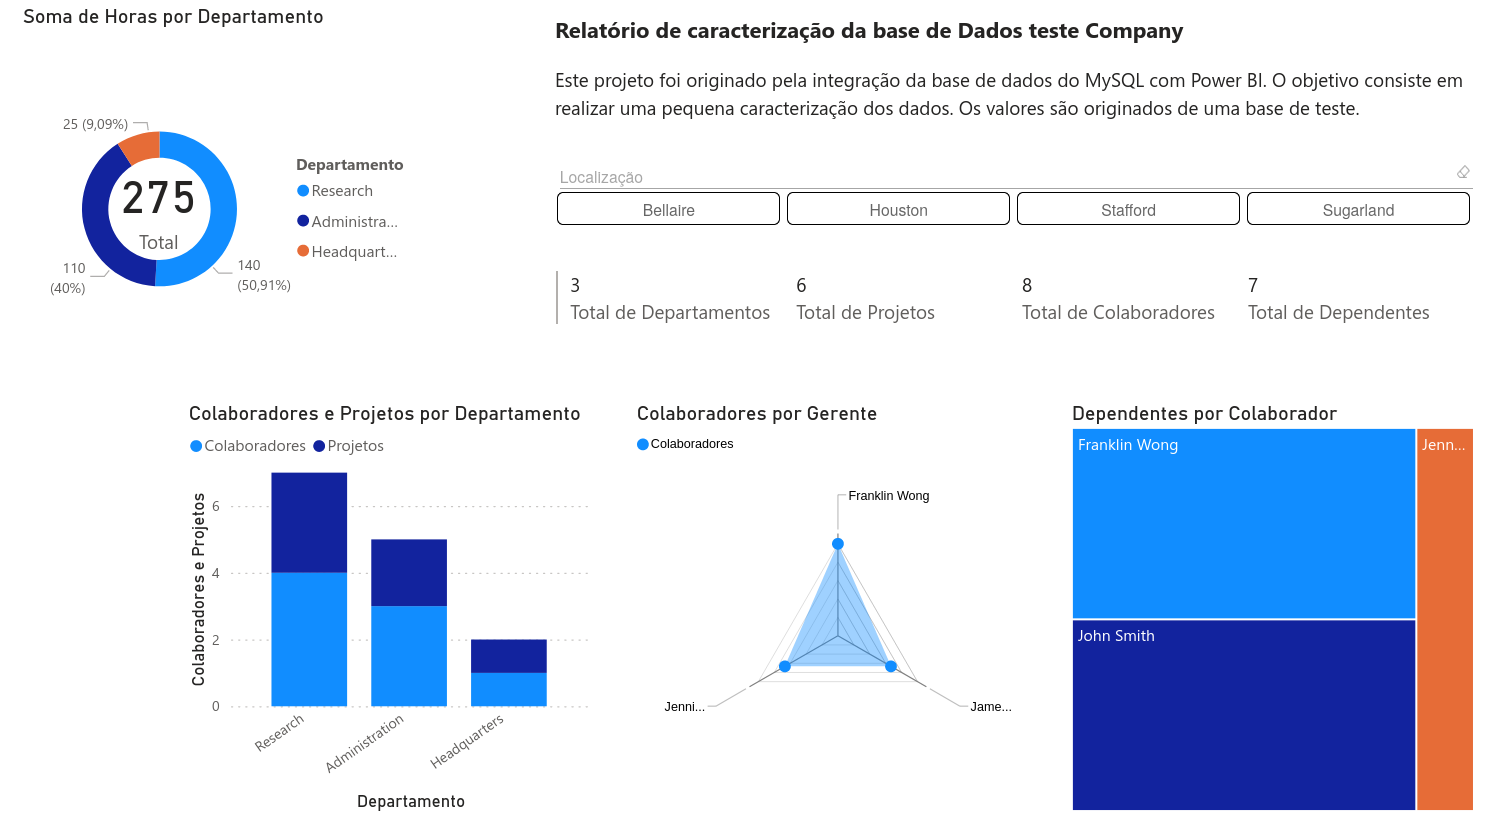

This screenshot's page, from the dashboard's own definition file:
{"tool":"powerbi","page":{"name":"Página 1","canvas":[1280,720],"ordinal":0},"visuals":[{"type":"donutChart","fields":{"Category":["azure_company departament.Nome"],"Y":["azure_company works_on.Horas"]},"box":[18,13,341,327],"z":0,"group":"g1"},{"type":"treemap","fields":{"Group":["azure_company employee.Nome"],"Values":["azure_company dependent.Nome Dependente"]},"box":[905,349,350,350],"z":0},{"type":"card","fields":{"Values":["azure_company works_on.Horas"]},"box":[34,123,201,126],"z":1000,"group":"g1"},{"type":"columnChart","fields":{"Category":["azure_company departament.Nome"],"Y":["azure_company employee.Nome","azure_company project.Nome"]},"box":[158,349,350,350],"z":1000},{"type":"RadarChart1446119667547","fields":{"Category":["azure_company employee_super_count.Gerente"],"Y":["azure_company employee_super_count.Colaboradores"]},"box":[537,349,350,350],"z":2000},{"type":"textbox","box":[467.8,13.3,786.7,112.2],"z":3000},{"type":"ChicletSlicer1448559807354","fields":{"Category":["azure_company project.Localização"]},"box":[467,141,788,72],"z":4000},{"type":"group","id":"g1","title":"Grupo 1","box":[18,13,341,327],"z":5000},{"type":"multiRowCard","fields":{"Values":["azure_company departament.Nome","azure_company project.Nome","azure_company employee.Nome","azure_company dependent.Nome Dependente"]},"box":[468,232,787,52],"z":6000}]}

Visuals, with their boxes in screenshot pixels (x1, y1, x2, y2), scaled from the page's 1280x720 canvas onto the 1500x837 screenshot:
donutChart - azure_company departament.Nome x azure_company works_on.Horas: (left=21, top=15, right=421, bottom=395)
treemap - azure_company employee.Nome x azure_company dependent.Nome Dependente: (left=1061, top=406, right=1471, bottom=813)
card - azure_company works_on.Horas: (left=40, top=143, right=275, bottom=289)
columnChart - azure_company departament.Nome x azure_company employee.Nome: (left=185, top=406, right=595, bottom=813)
RadarChart1446119667547 - azure_company employee_super_count.Gerente x azure_company employee_super_count.Colaboradores: (left=629, top=406, right=1039, bottom=813)
textbox: (left=548, top=15, right=1470, bottom=146)
ChicletSlicer1448559807354 - azure_company project.Localização: (left=547, top=164, right=1471, bottom=248)
"Grupo 1" group: (left=21, top=15, right=421, bottom=395)
multiRowCard - azure_company departament.Nome x azure_company project.Nome: (left=548, top=270, right=1471, bottom=330)
